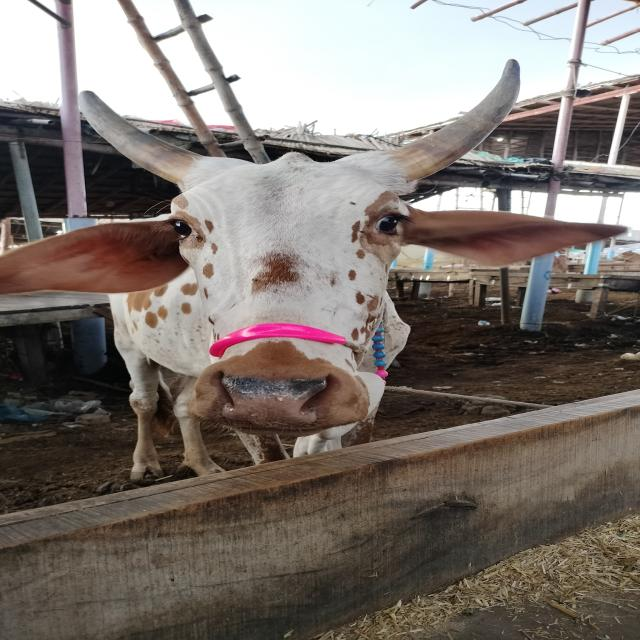muzzles: (206, 360, 348, 434)
